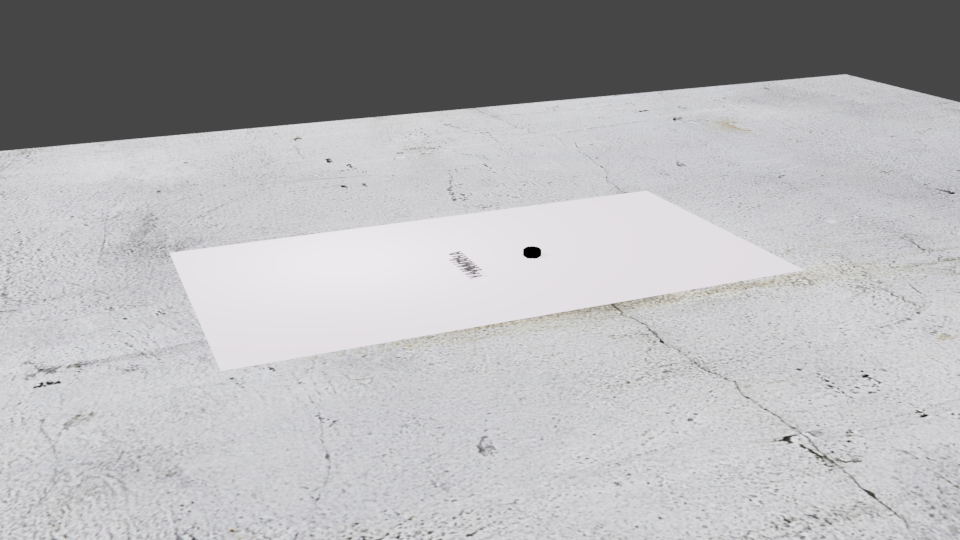yamaha_letters: (448, 250, 482, 273)
